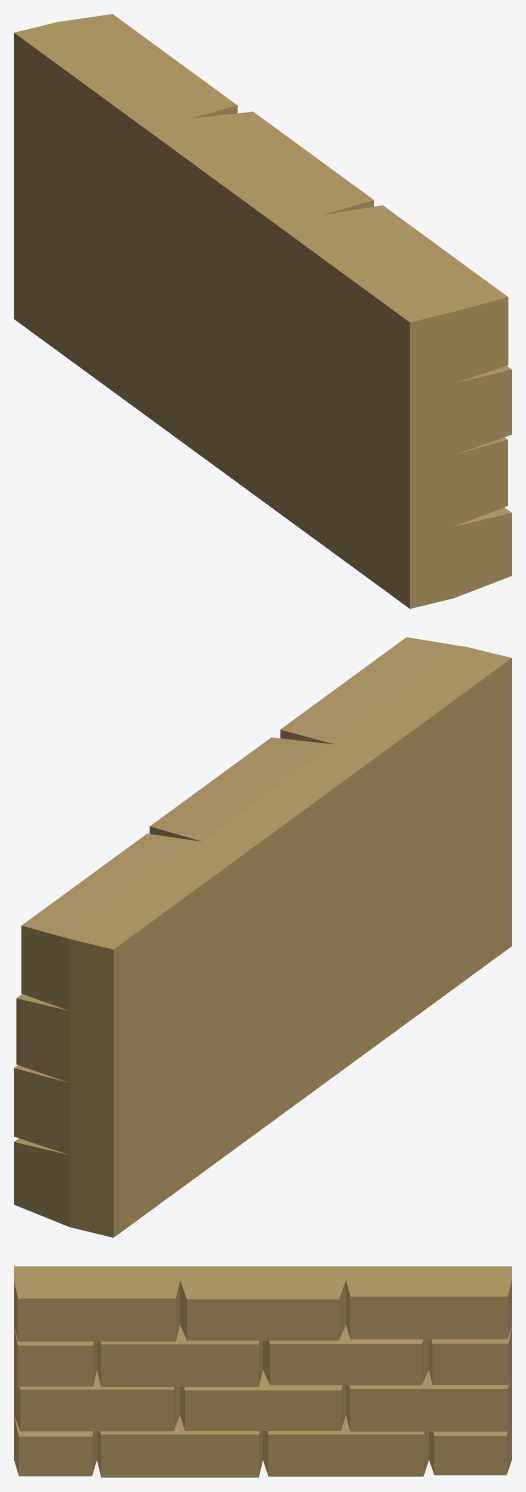
Rendered from Brick Wall Test.fbx.
The picture shows the model from 3 angles, top to bottom: view 1: azimuth 30°, elevation 25°; view 2: azimuth 150°, elevation 25°; view 3: azimuth 270°, elevation 25°; orthographic projection. The views are drawn at different scales.
Visible parts, largest first — view 1: pCube1; view 2: pCube1; view 3: pCube1.
Part boxes in pixels (x1=…): pCube1: x1=14, y1=14, x2=511, y2=608; pCube1: x1=14, y1=637, x2=511, y2=1237; pCube1: x1=14, y1=1266, x2=511, y2=1477.
Bounding box in the file's own units: 1.07 × 2.78 × 6.96.
